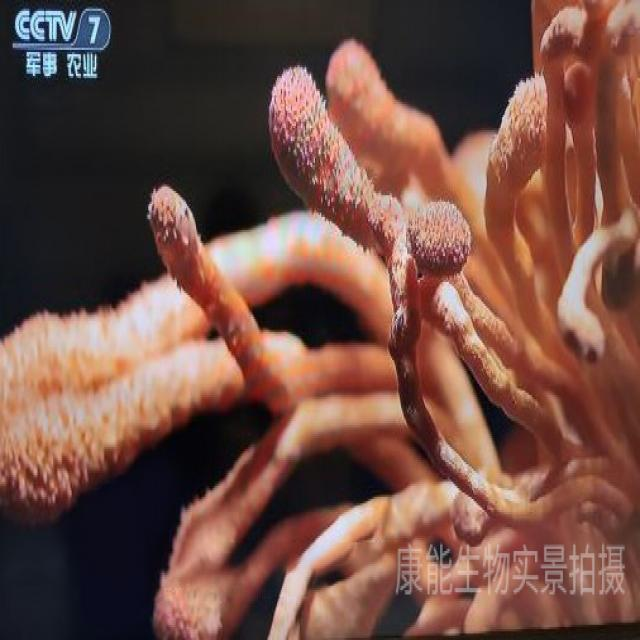Cordyceps militaris: (148, 4, 640, 636), (1, 204, 505, 516)
